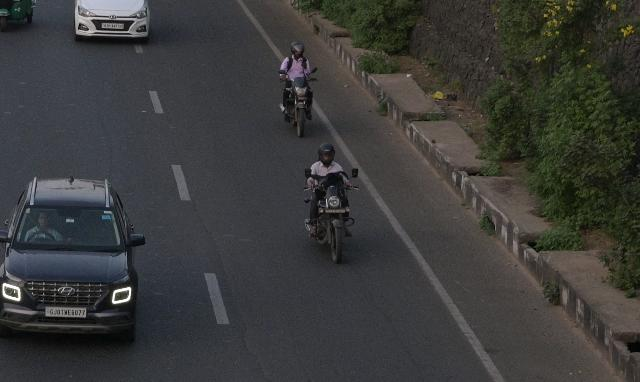With Helmet: (313, 144, 337, 166), (288, 40, 308, 58)
